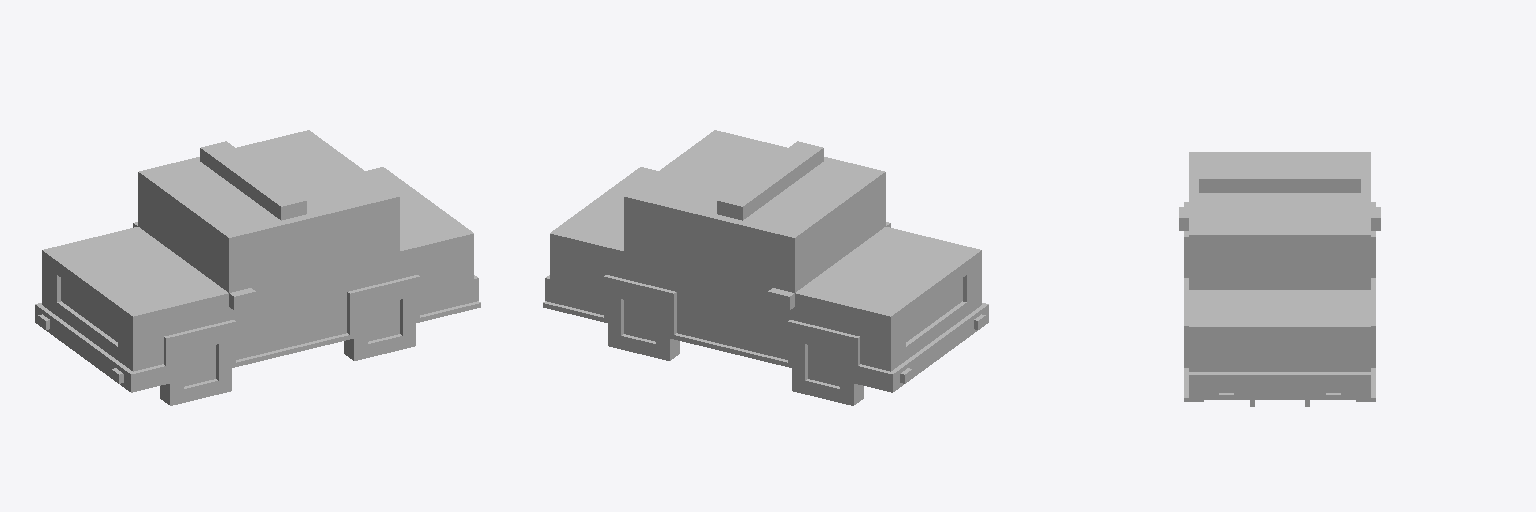
File: alll cars3-135.obj
3 renders of one model, left to right at view 1: azimuth 30°, elevation 25°; view 2: azimuth 150°, elevation 25°; view 3: azimuth 270°, elevation 25°, orthographic.
Visible parts, largest first — view 1: object 1; view 2: object 1; view 3: object 1.
Part boxes in pixels (x1,y1,x2,y2): object 1: (35,130,480,405); object 1: (543,130,988,405); object 1: (1179,152,1380,406).
Size of the model in its own units: 8.1 by 3.6 by 4.